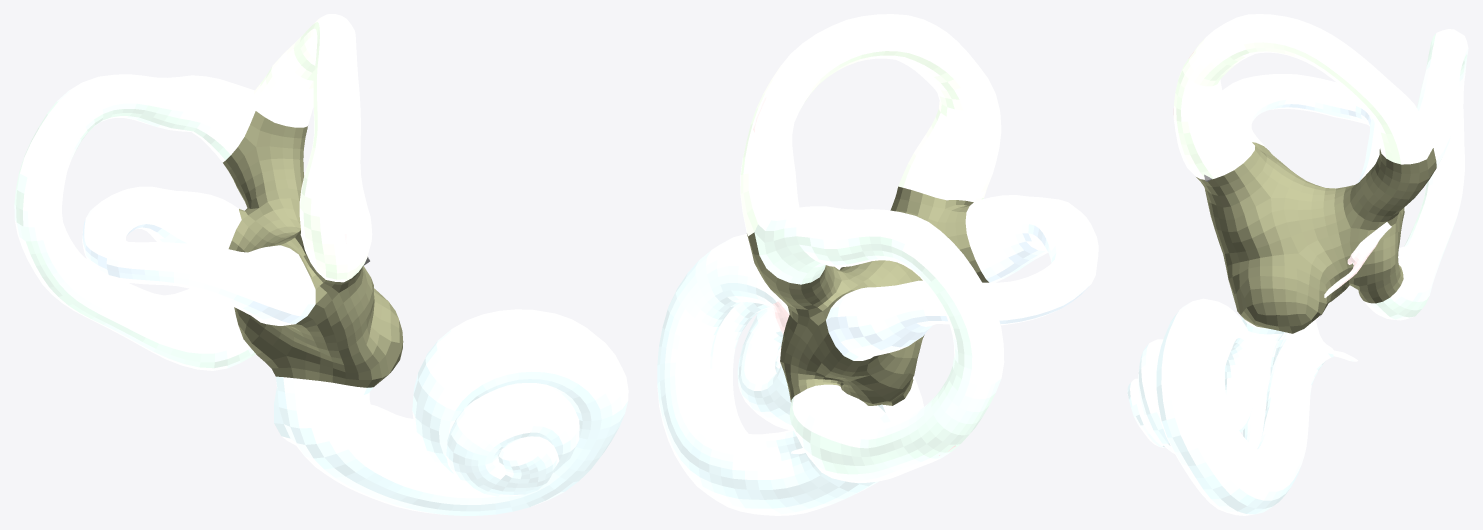
Rendered from innerEar.glb.
3 views of the same model, side by side, from view 1: azimuth 30°, elevation 25°; view 2: azimuth 150°, elevation 25°; view 3: azimuth 270°, elevation 25° (orthographic). The views are drawn at different scales.
Parts seen in each view (by area): view 1: BG_R_SemicircCanals_Cochlea_Bone_LP2; view 2: BG_R_SemicircCanals_Cochlea_Bone_LP2, BG_R_endolymph_LP; view 3: BG_R_SemicircCanals_Cochlea_Bone_LP2, BG_R_endolymph_LP.
Boxes of the visible parts, x1=… form: BG_R_SemicircCanals_Cochlea_Bone_LP2: x1=14, y1=14, x2=628, y2=515; BG_R_SemicircCanals_Cochlea_Bone_LP2: x1=657, y1=14, x2=1098, y2=515; BG_R_endolymph_LP: x1=753, y1=71, x2=955, y2=455; BG_R_SemicircCanals_Cochlea_Bone_LP2: x1=1127, y1=14, x2=1468, y2=515; BG_R_endolymph_LP: x1=1173, y1=18, x2=1397, y2=297.
Bounding box in the file's own units: 0.1559 × 0.1631 × 0.1166.
